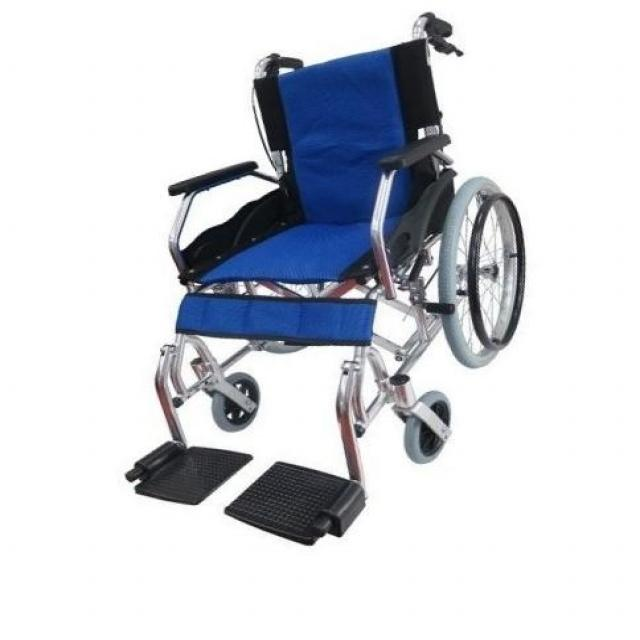wheelchair: (114, 9, 555, 574)
